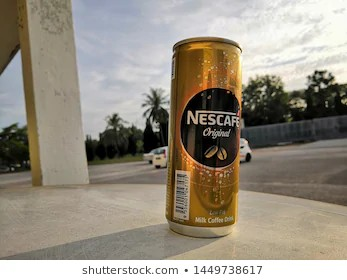nescafe-can: (165, 30, 248, 233)
